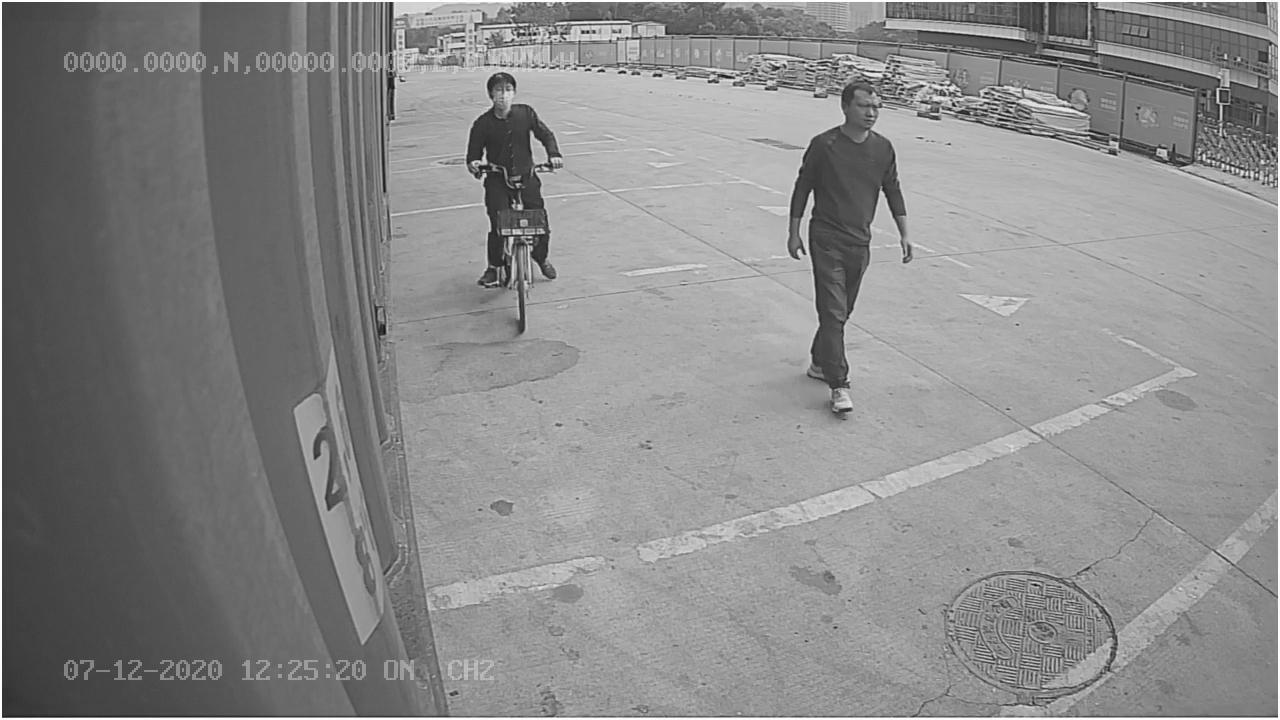person: (785, 78, 918, 417)
